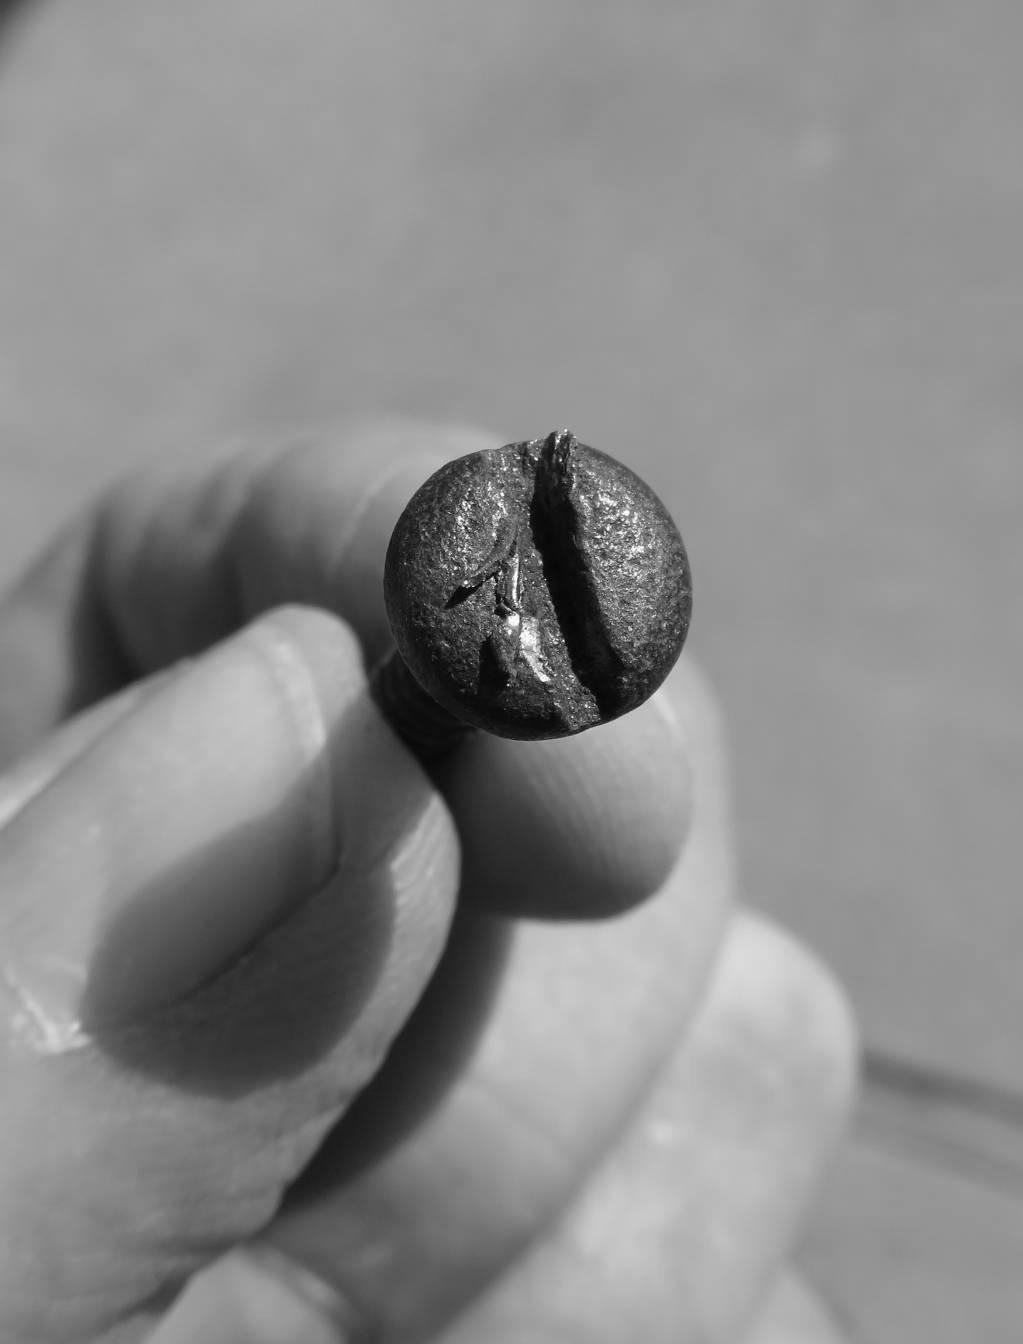screw: (394, 414, 707, 748)
